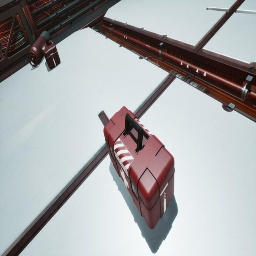FirstAidBox ,: (103, 106, 175, 229), (42, 38, 60, 70)
NitrogenTank ,: (28, 31, 51, 67)
